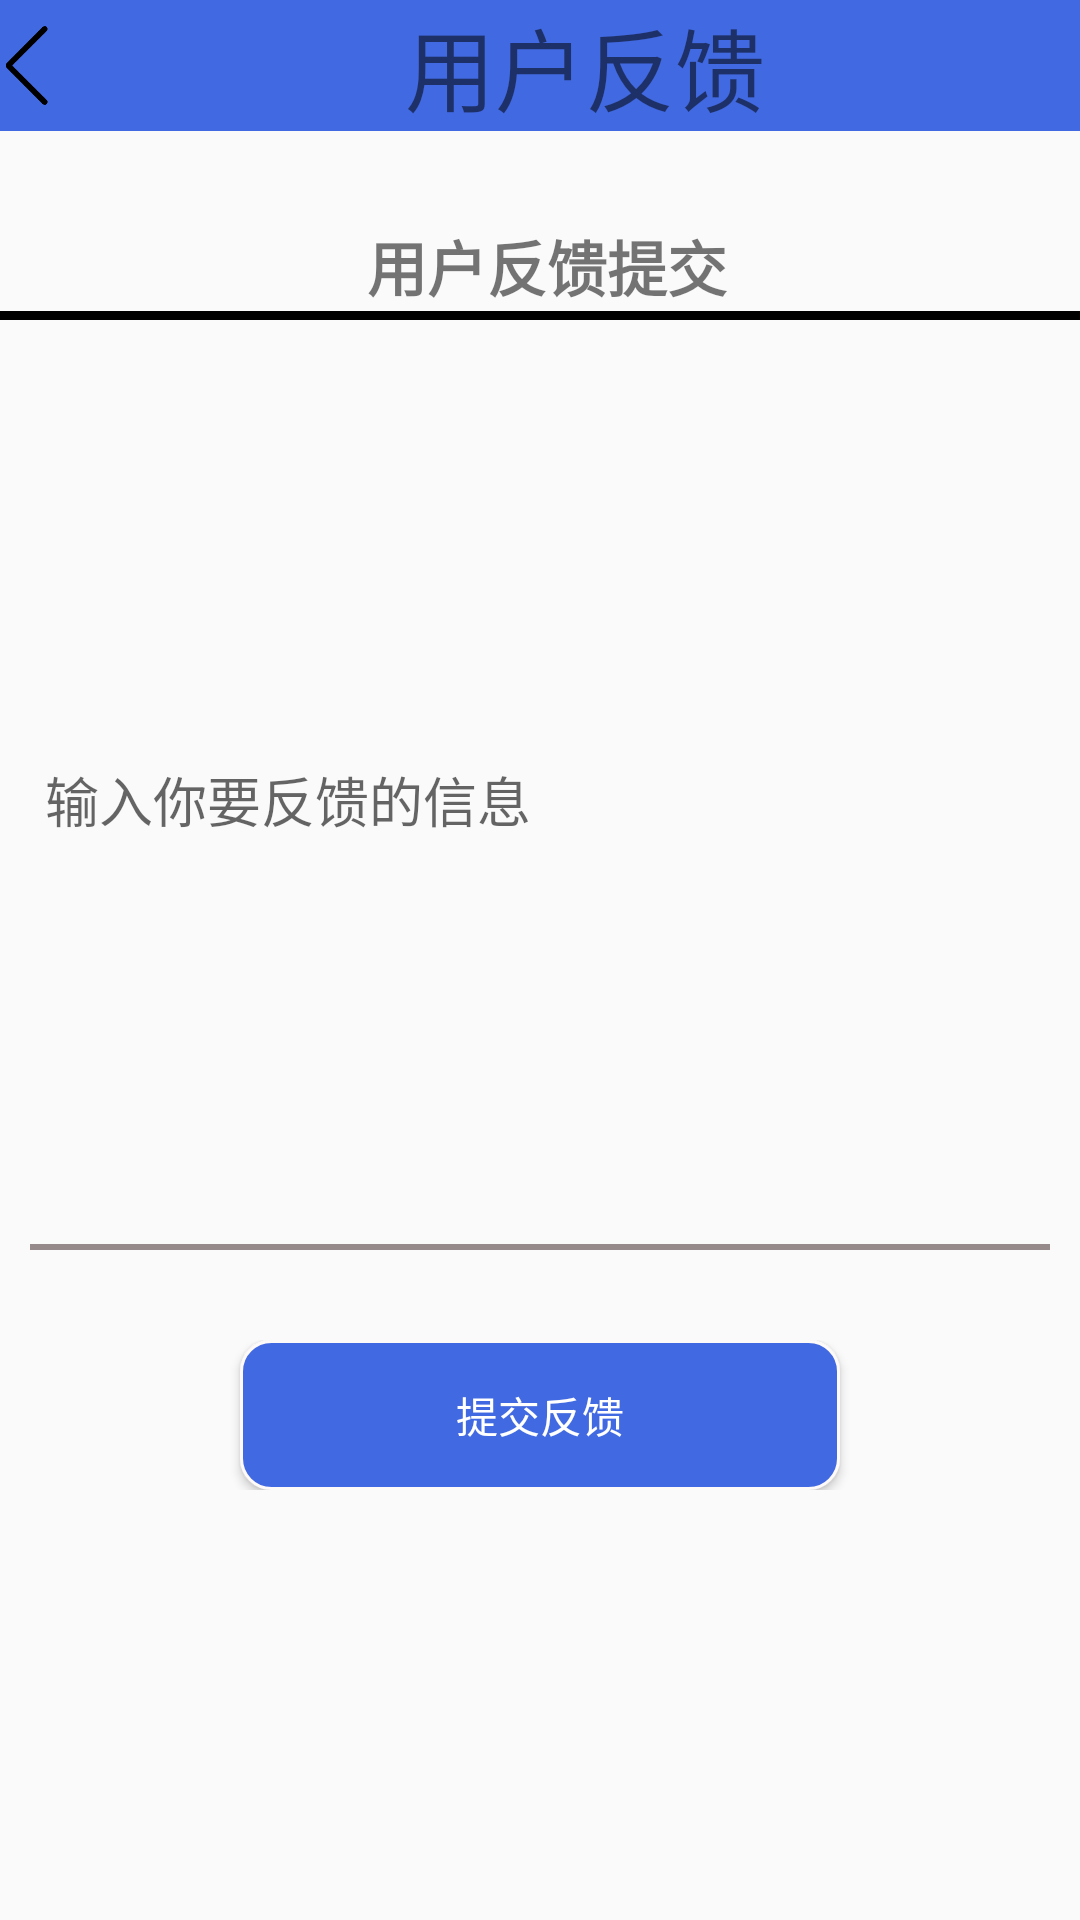

Named icons in this screenshot (1080×1920) and their bounding boxes, [x1,y1,x2,y2]:
back: [6,26,48,105]
